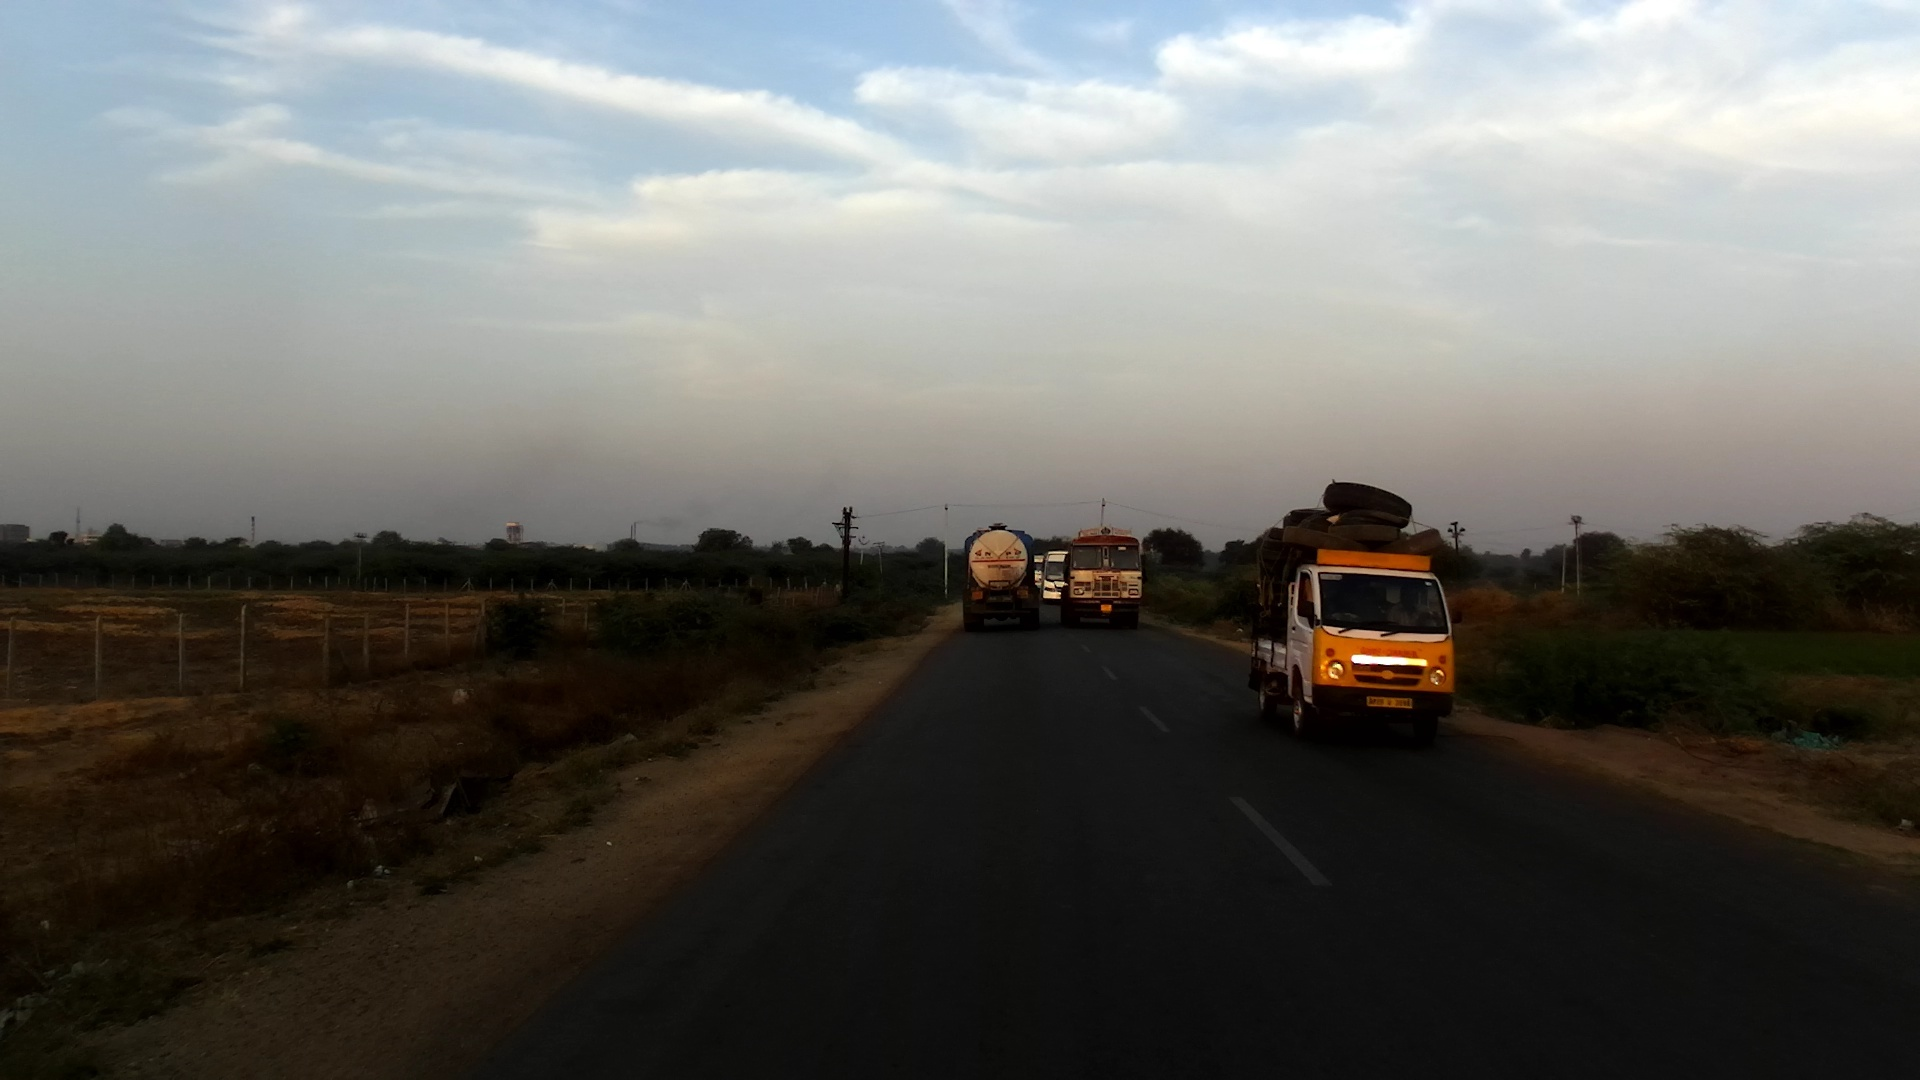bus: (1040, 542, 1069, 609), (1031, 553, 1048, 603)
truck: (1244, 483, 1462, 764), (959, 517, 1044, 636), (1060, 522, 1145, 633)
